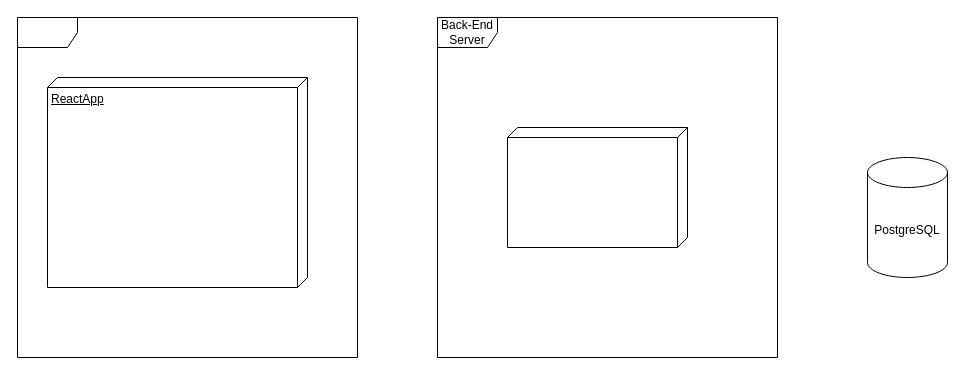
The diagram is 965 pixels wide and 375 high, and some of its shapes have lost their labels. The shapes that lost their labels are listed below. From the top down, each one's box as (x1, y1, x2, y2) in pixels, then its label:
(16, 16, 358, 358): Front-End Server
(506, 126, 688, 248): SpringBoot
